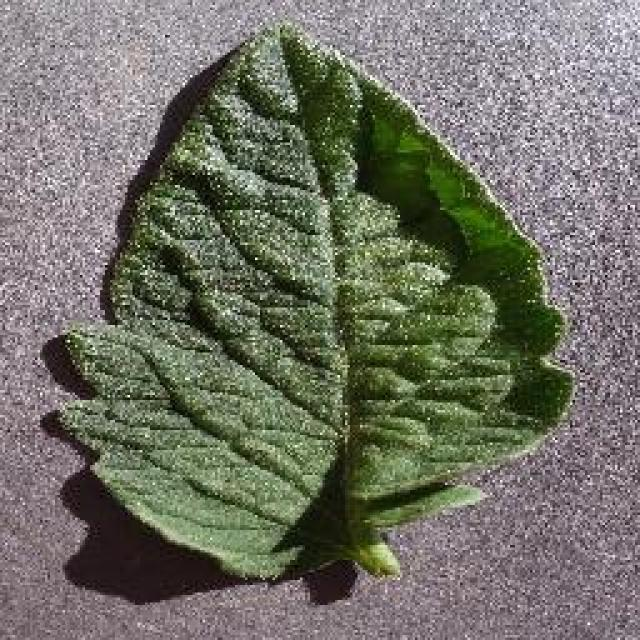Tomato healthy leaf: (58, 31, 570, 584)
